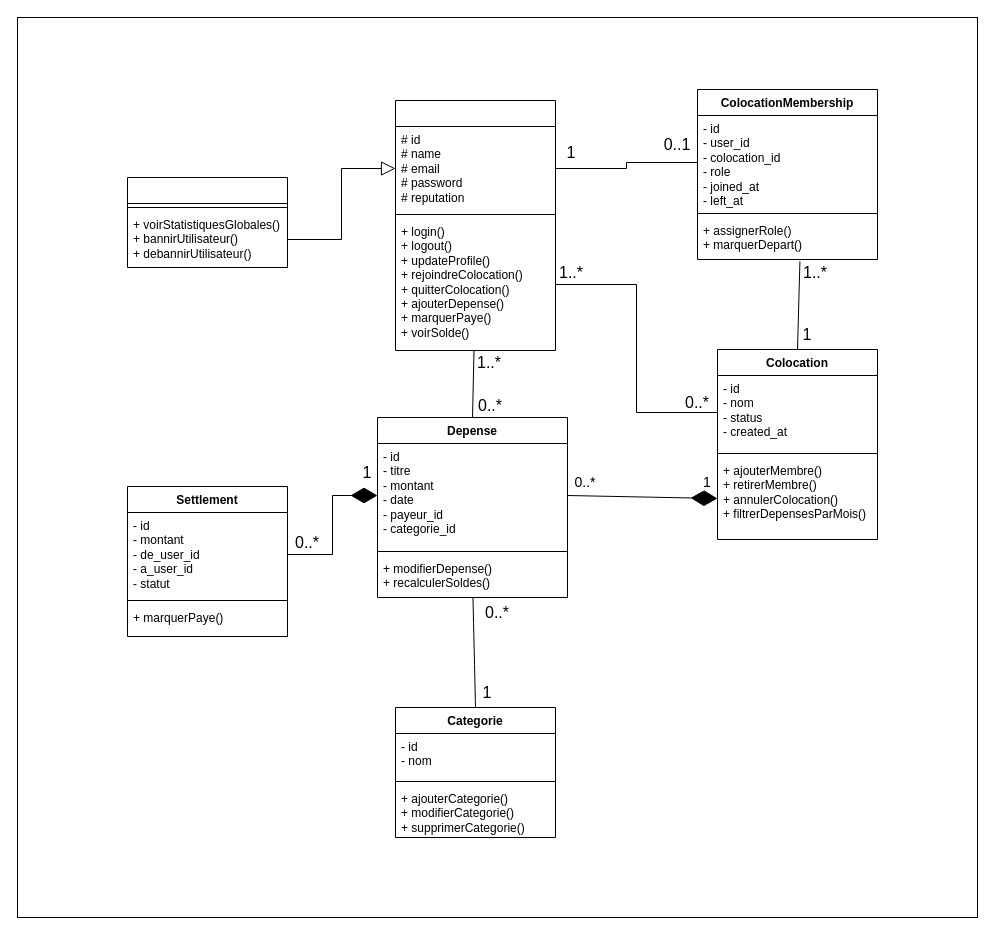
The diagram is 995 pixels wide and 935 high, and some of its shapes have lost their labels. Here are the shapes that lost their labels. From the top down, the box of each, then its label:
(126, 176, 288, 268): Admin
(394, 100, 556, 350): User
